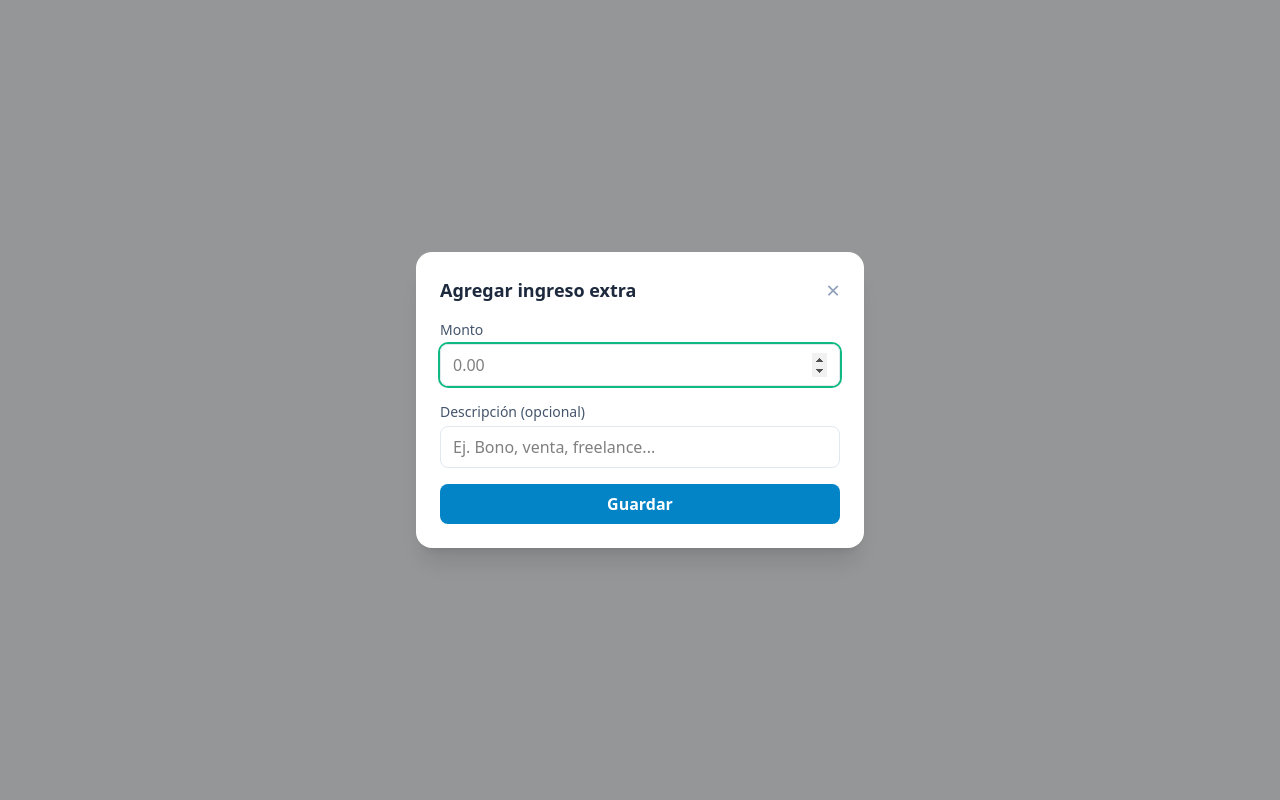
Test: ModalIngresoExtra › valida que el monto sea mayor a 0
What coordinates should you click on to do the following:
click the button "Guardar"
I would click on:
 (640, 504)
Its box is [440, 484, 840, 524].
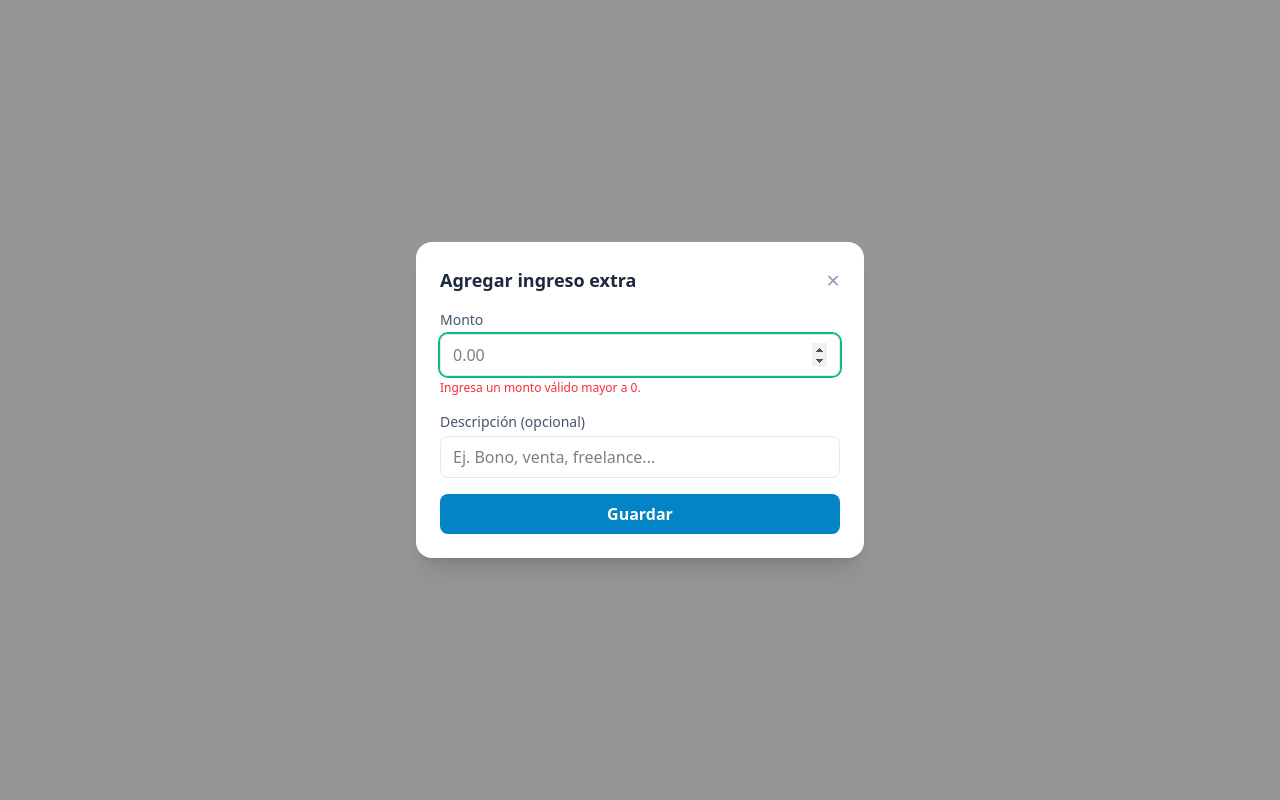
Check: the text "Ingresa un monto válido mayor a 0." is shown, box [440, 379, 641, 396]
